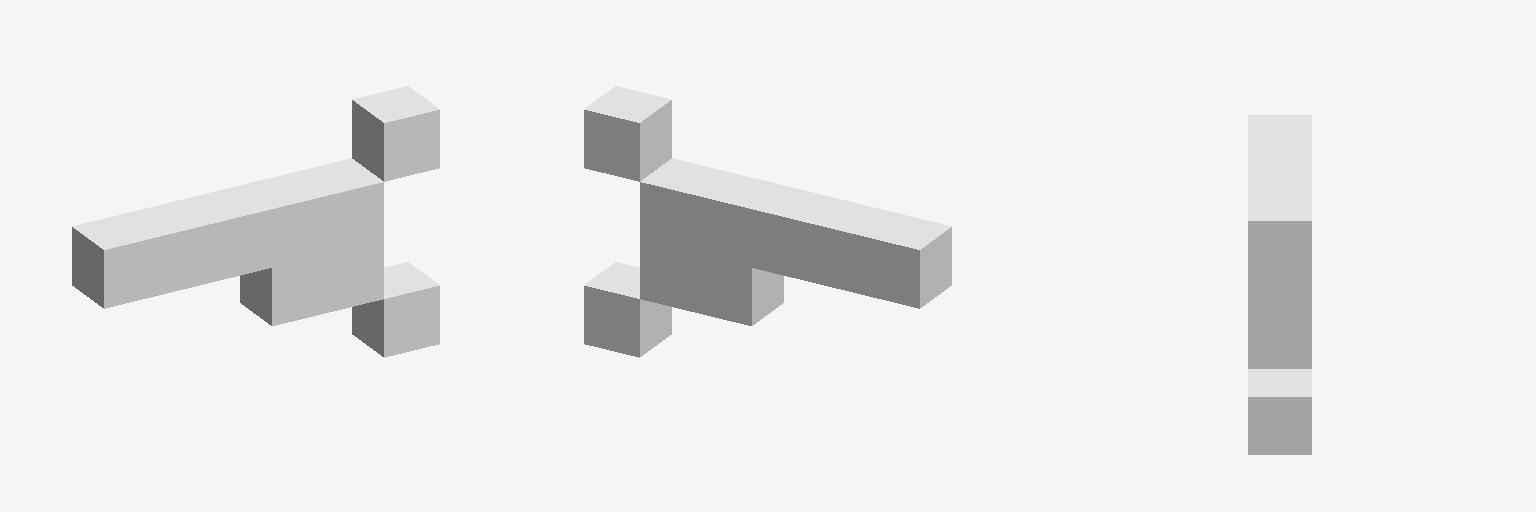
The model's file is gun_v1.obj.
3 views of the same model, side by side, from view 1: azimuth 30°, elevation 25°; view 2: azimuth 150°, elevation 25°; view 3: azimuth 270°, elevation 25° (orthographic).
Visible parts, largest first — view 1: gun_v1; view 2: gun_v1; view 3: gun_v1.
Boxes of the visible parts, x1,y1,x2,y2 form: gun_v1: [72, 86, 439, 357]; gun_v1: [584, 86, 951, 357]; gun_v1: [1248, 115, 1311, 454].
Bounding box in the file's own units: 6 × 4 × 1.